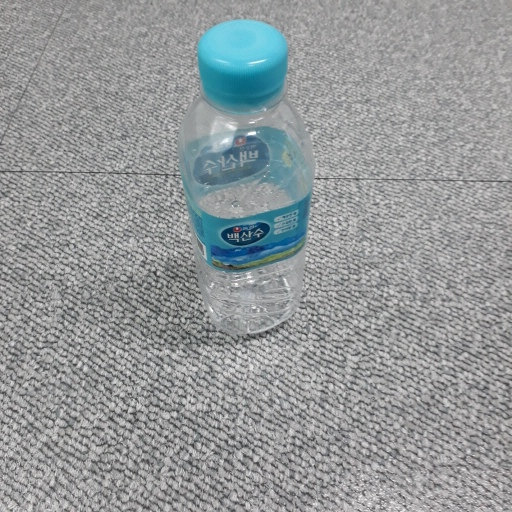Plastic_0: (177, 19, 317, 341)
